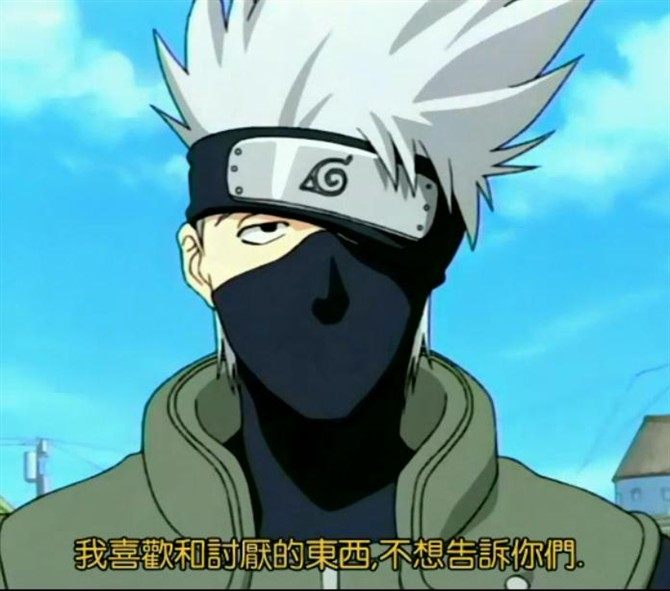kakashi: (175, 121, 474, 432)
